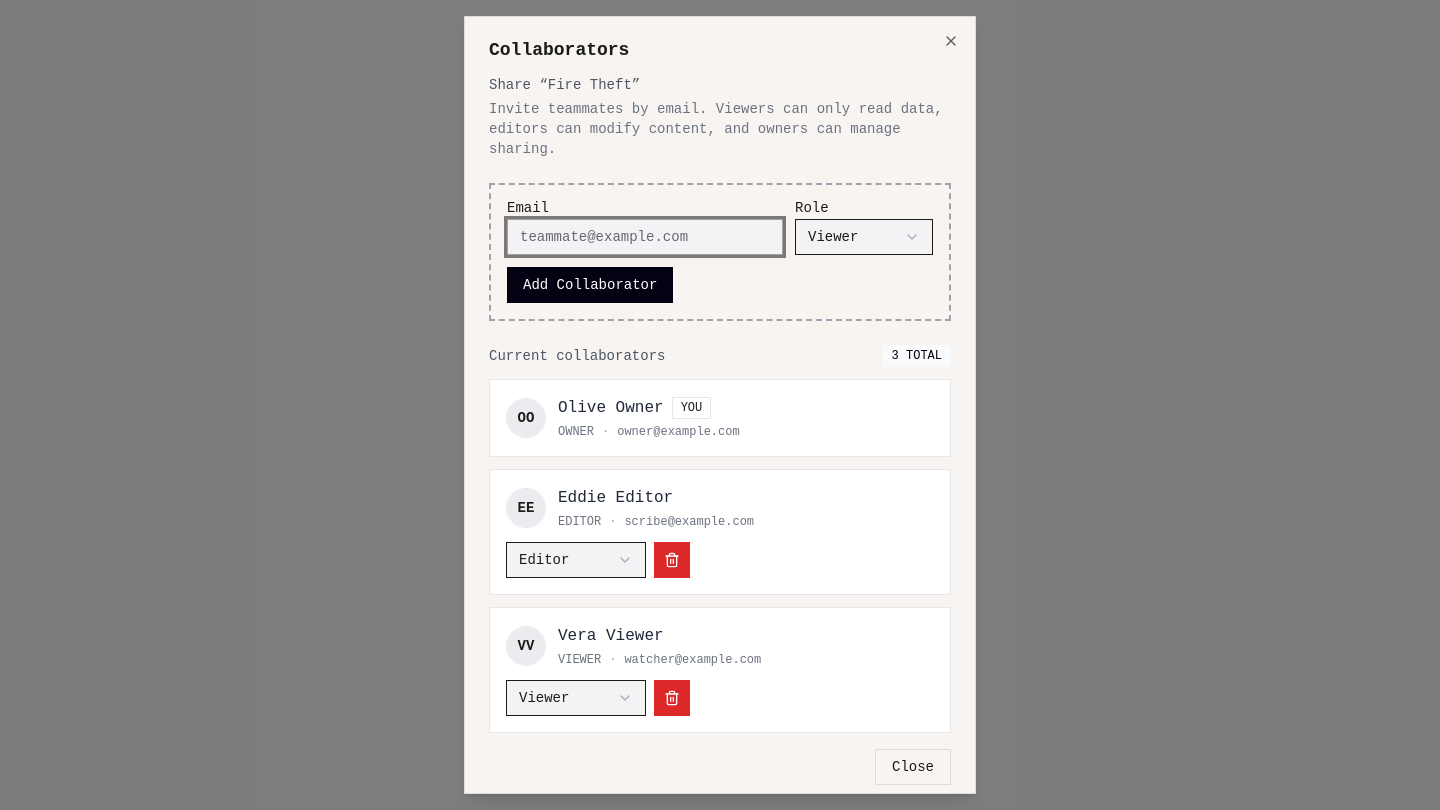
Scenario: ManageCollaboratorsDialog › shows errors when updates fail
Type "error@example.com" into the field labelled "Email" at coordinates (645, 237), box [507,219,783,255]
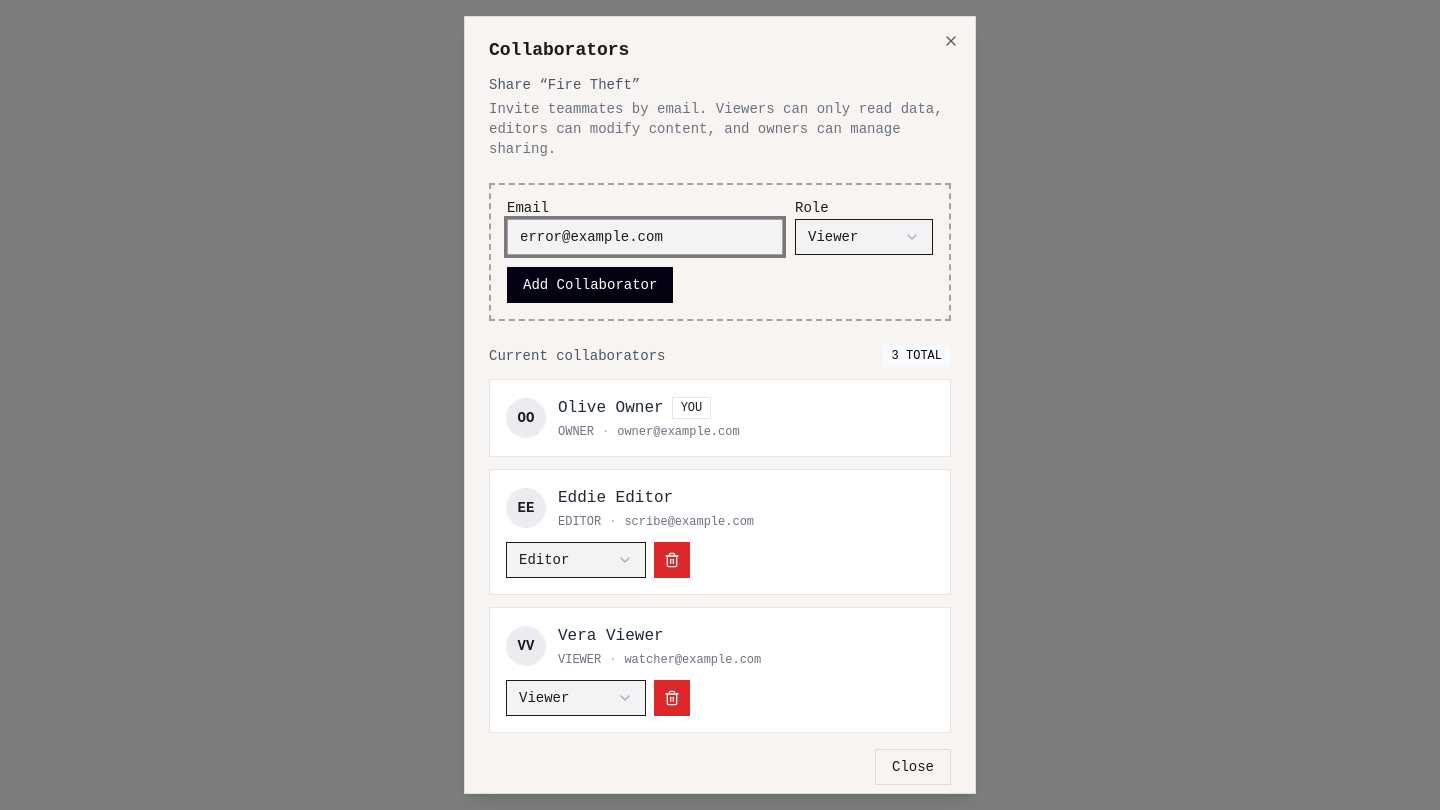
Click the button "Add Collaborator" at coordinates (590, 285), box [507,267,673,303]
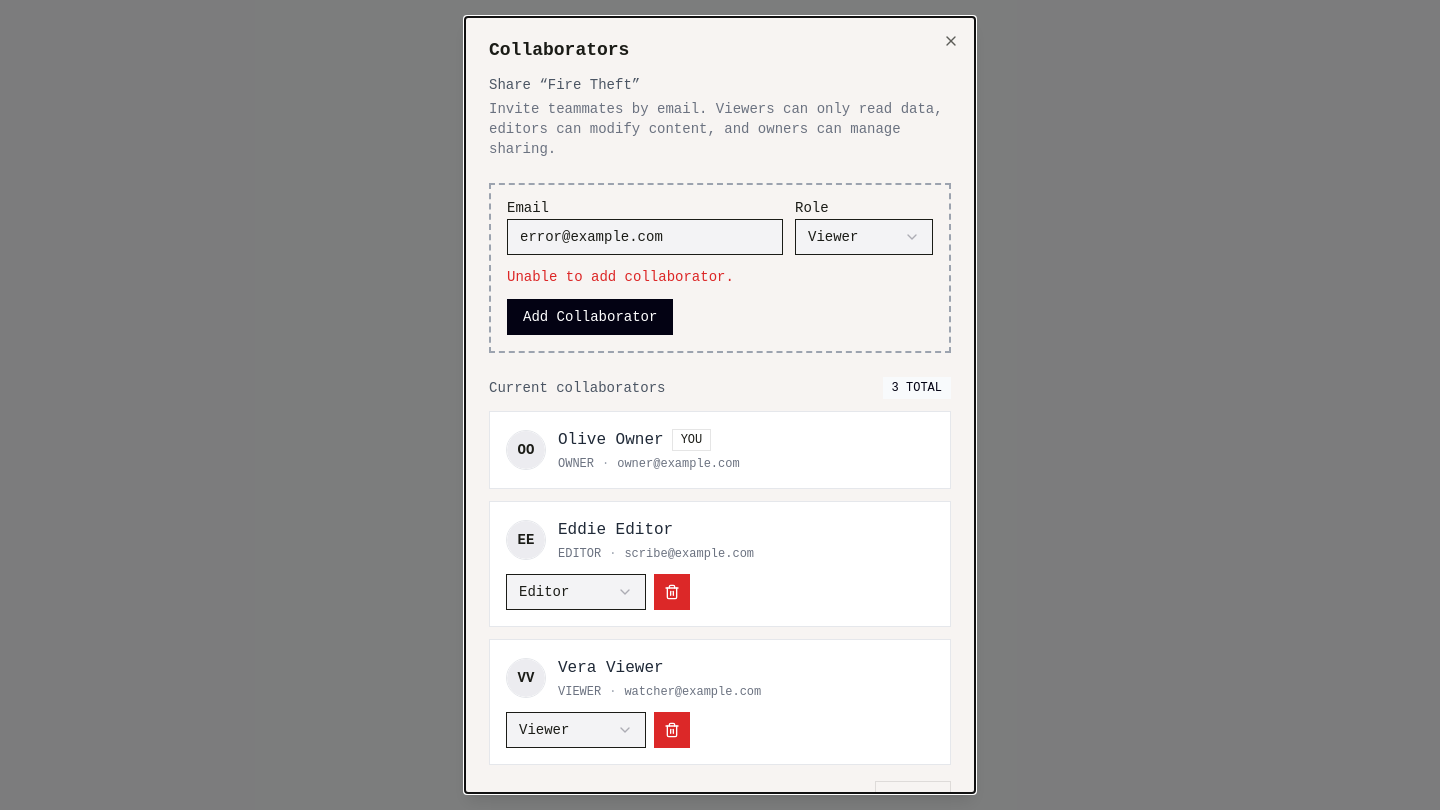
Expected: the text "Unable to add collaborator." is shown, [507,269,734,285]
Click the dropdown labelled "Editor" at coordinates (576, 592), box [506,574,646,610]
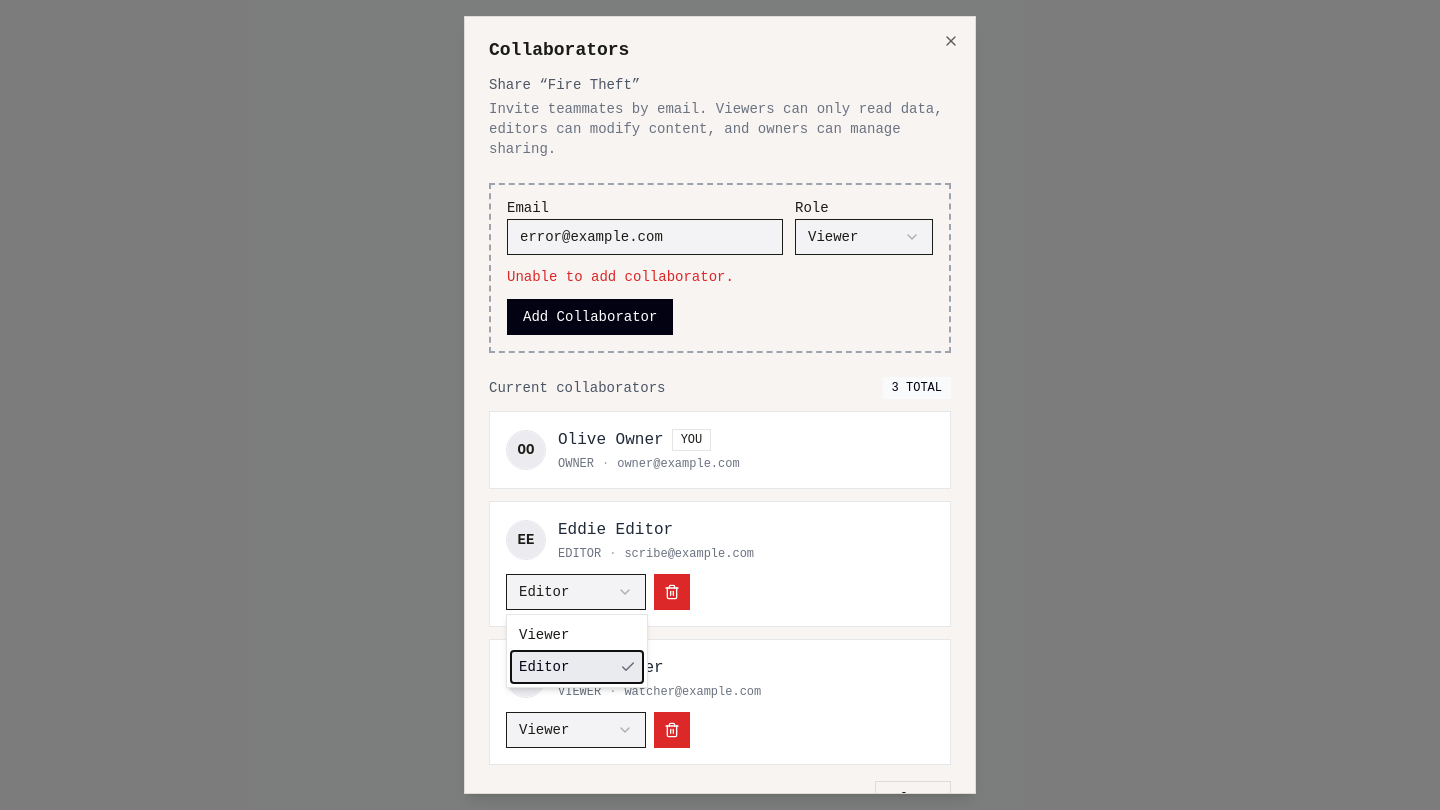
Click the option "Viewer" at coordinates (544, 635), box [519,627,569,643]
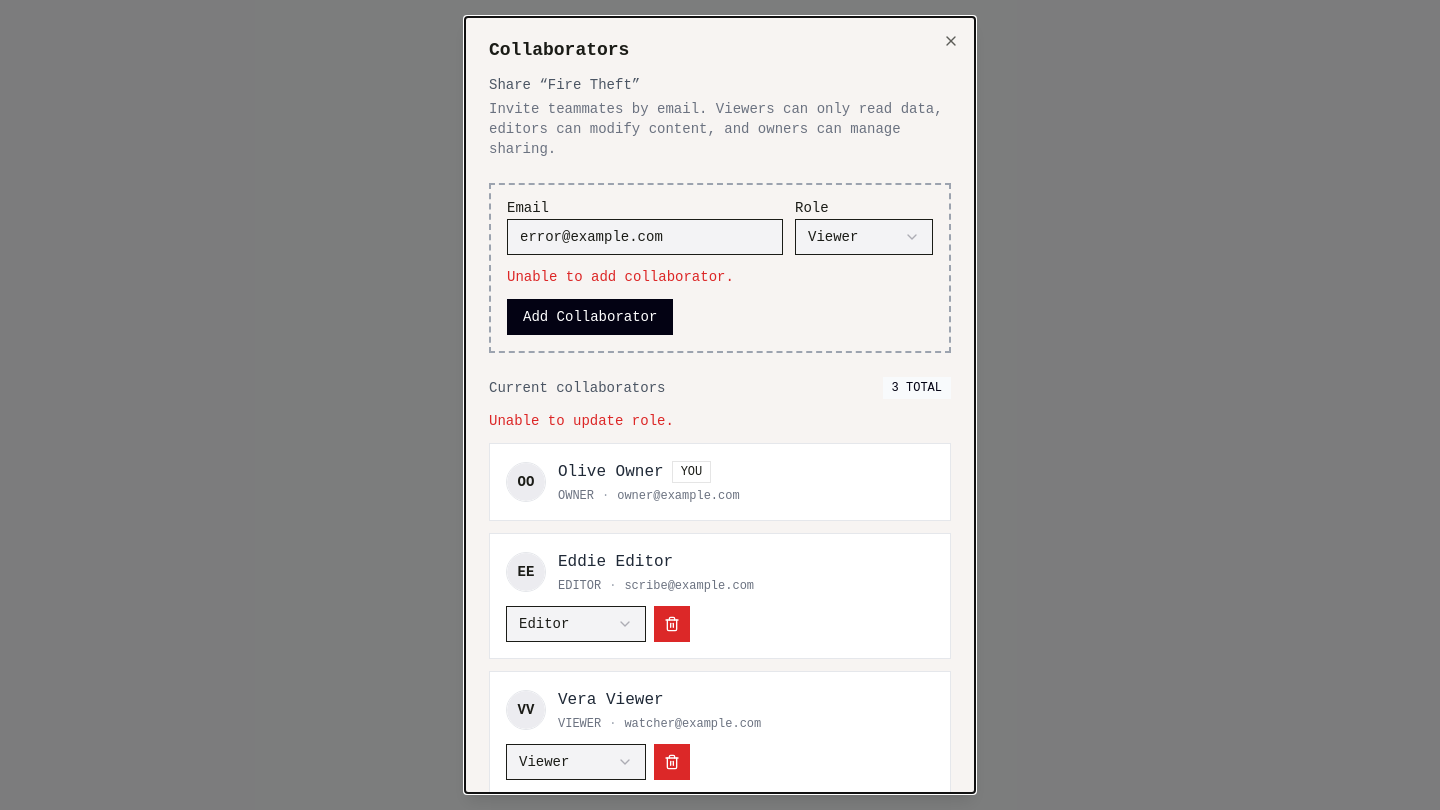
Expected: the text "Unable to update role." is shown, [489,413,674,429]
Click the button without text below "EE" at coordinates (672, 624), box [654,606,690,642]
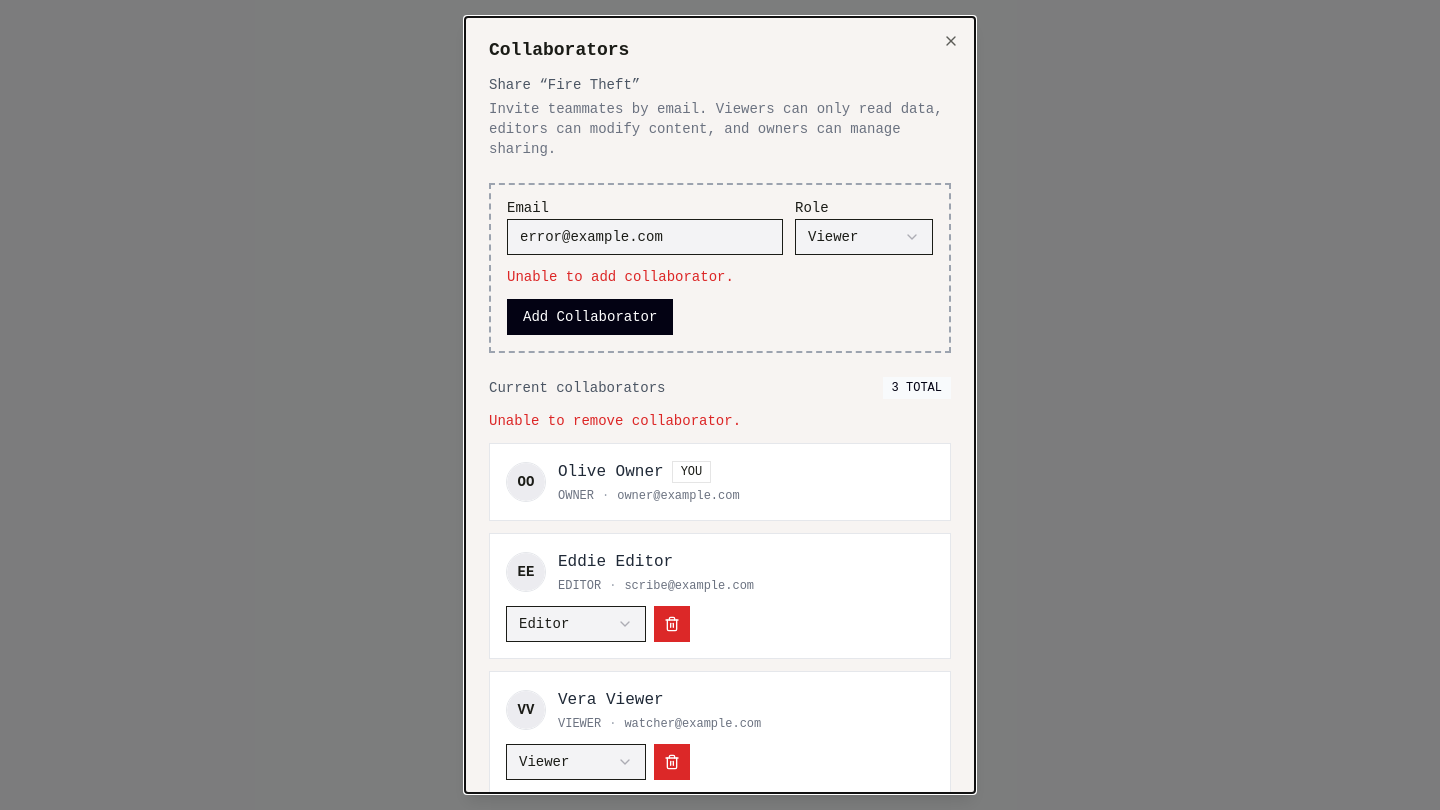
Expected: the text "Unable to remove collaborator." is shown, [489,413,741,429]
